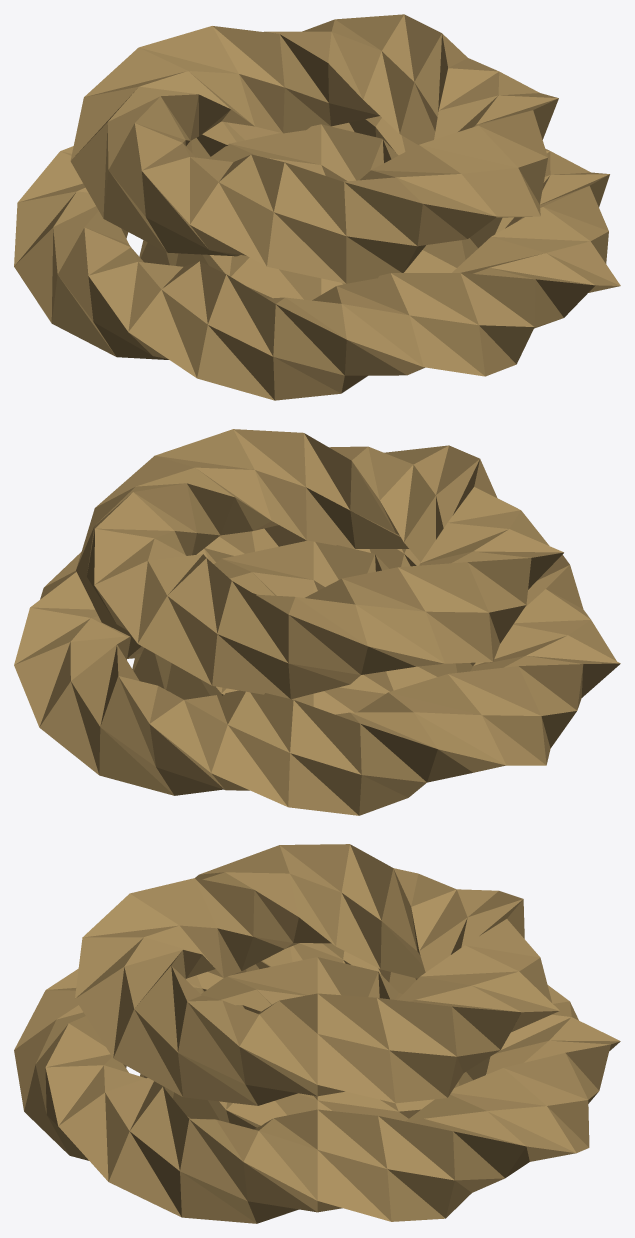
Rendered from rope-coil-776dcc.glb.
3 renders of one model, top to bottom at view 1: azimuth 30°, elevation 25°; view 2: azimuth 150°, elevation 25°; view 3: azimuth 270°, elevation 25°, orthographic.
Visible parts, largest first — view 1: coil; view 2: coil; view 3: coil.
Part boxes in pixels (x1=…): coil: x1=14, y1=14, x2=620, y2=400; coil: x1=14, y1=429, x2=620, y2=815; coil: x1=14, y1=844, x2=620, y2=1223.
Size of the model in its own units: 0.6884 by 0.2538 by 0.6998.
